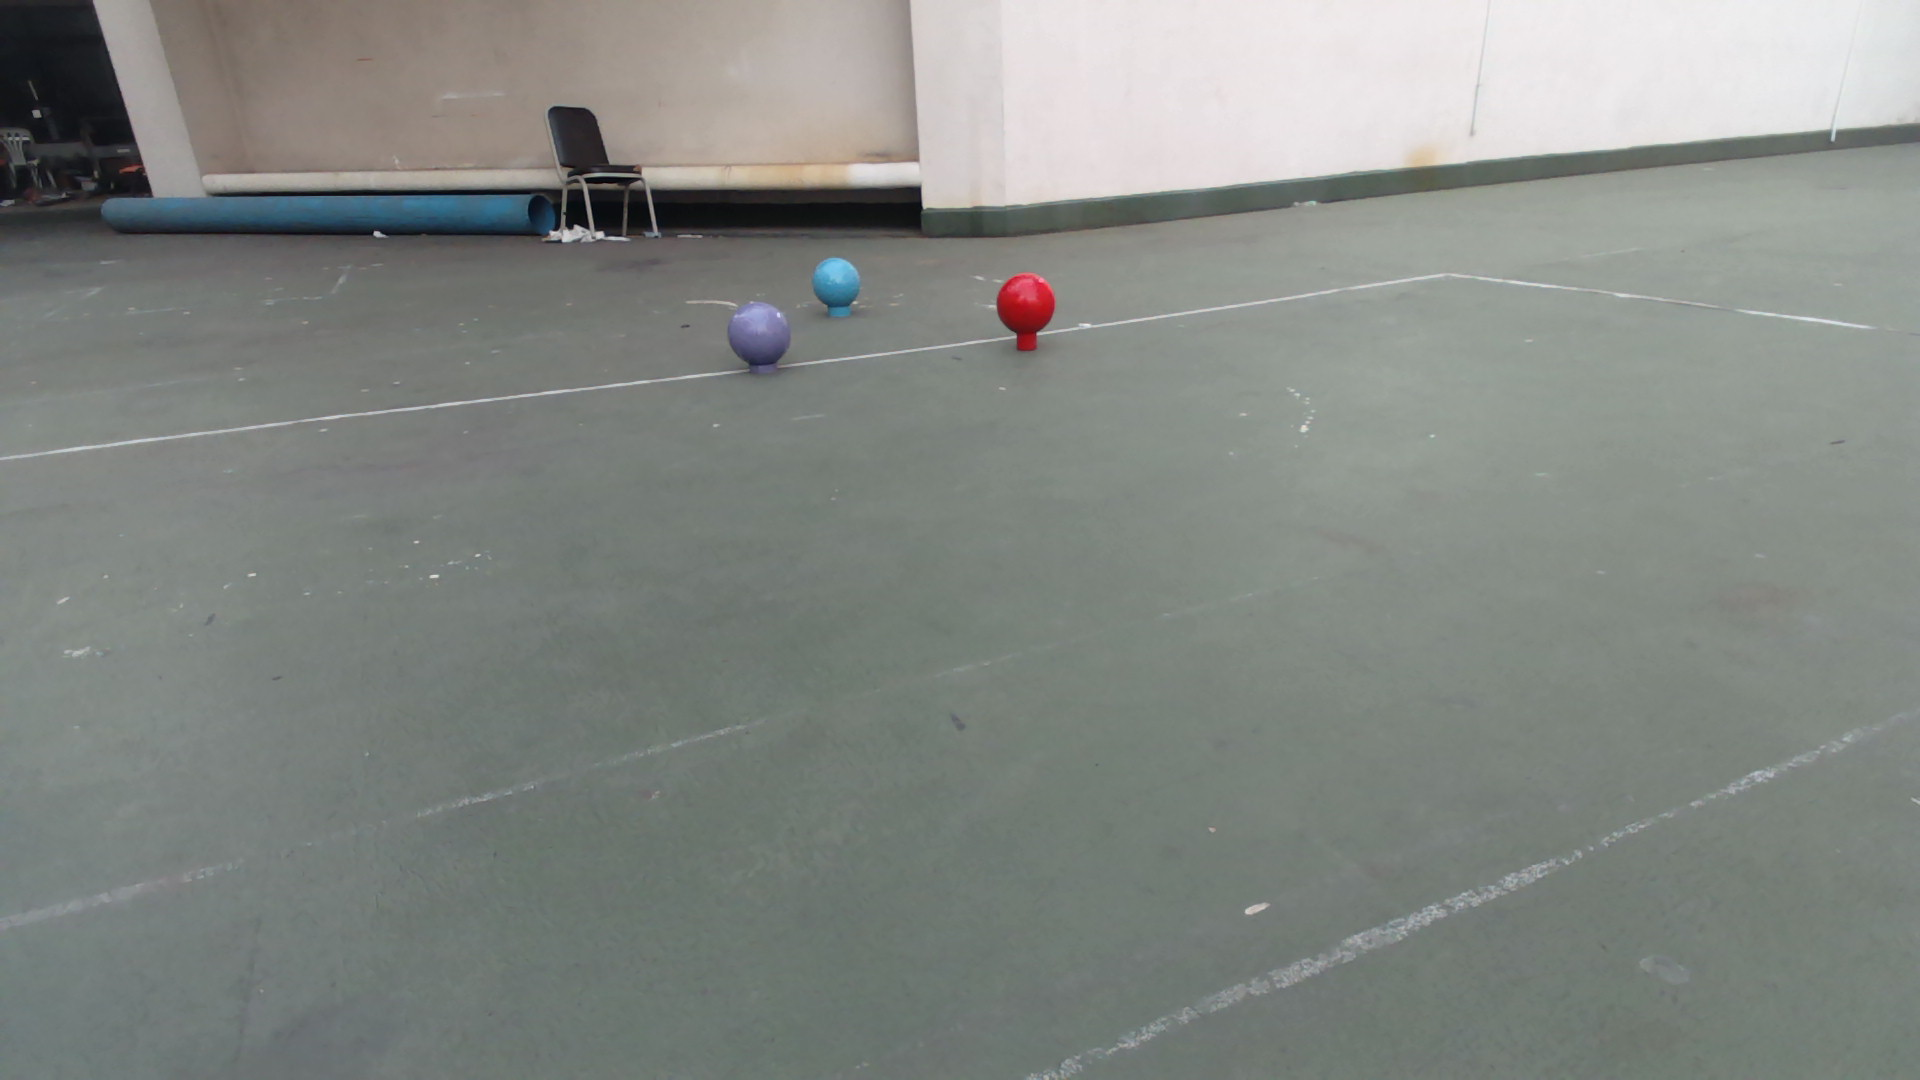Blue ball: (811, 256, 862, 309)
Purple ball: (727, 299, 793, 367)
Red ball: (996, 272, 1056, 336)
